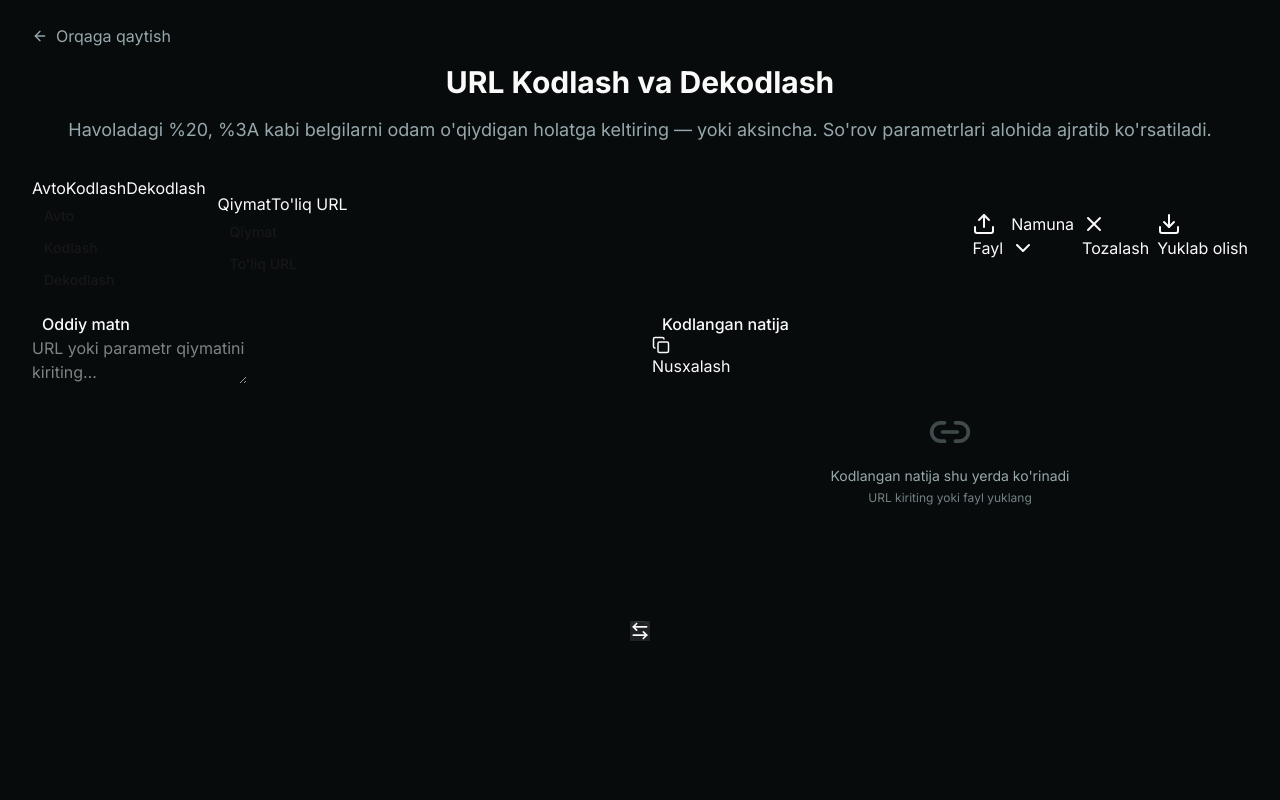
the tool decides, and says what it decided › still escapes the separators when asked for a value
The width and height of the screenshot is (1280, 800).
Type "https://webiston.uz/search?q=hello world&lang=uz" into the text box labelled "URL yoki parametr qiymatini kiriting…".
click(140, 360); type("https://webiston.uz/search?q=hello world&lang=uz")  # box [32,336,247,384]
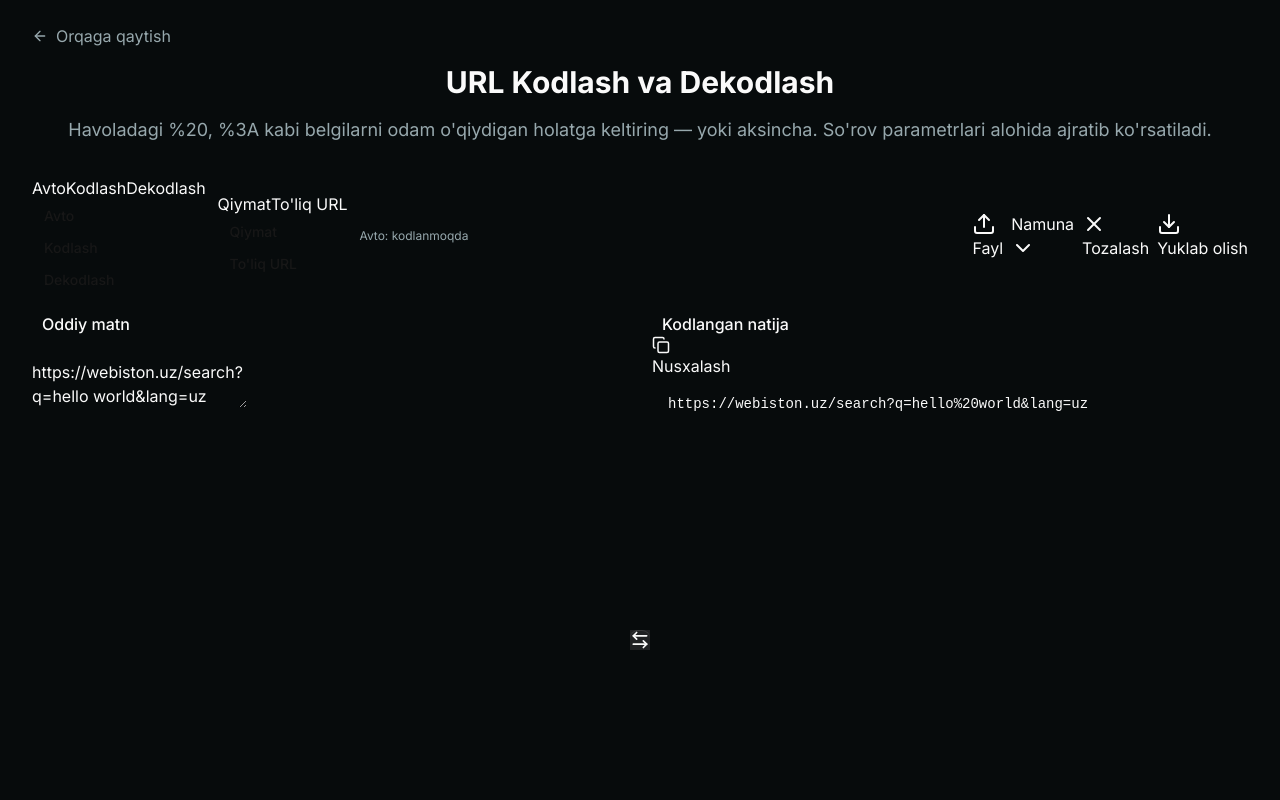
Click the radio button labelled "Qiymat".
click(244, 204)  # box [218,194,271,214]
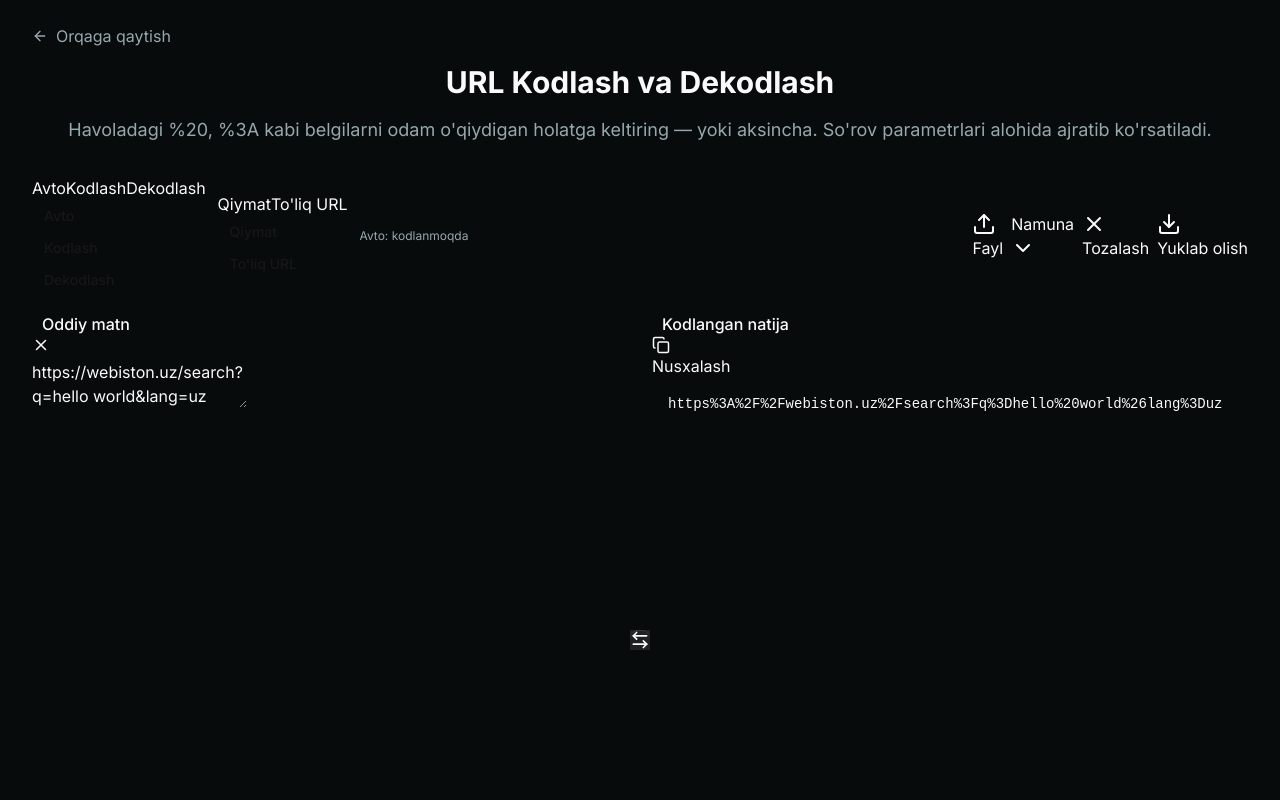
Expected: the element named "natija" shows "https%3A%2F%2Fwebiston.uz", [668,396,1222,412]
